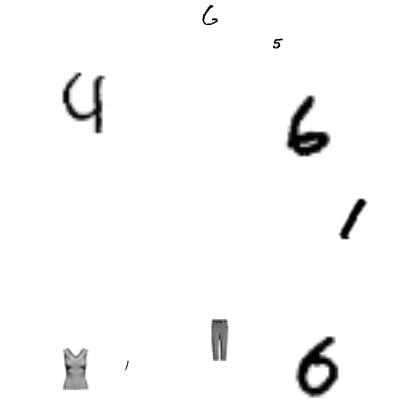1: (323, 189, 379, 245), (120, 358, 134, 372)
4: (42, 61, 126, 145)
5: (270, 36, 284, 50)
6: (261, 90, 345, 174), (275, 325, 359, 409), (195, 2, 223, 30)
T-shirt/top: (54, 348, 96, 390)
Trouser: (198, 319, 240, 361)
